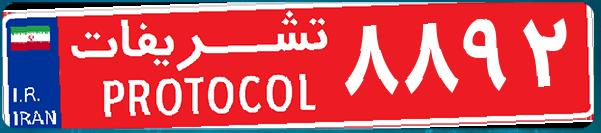2: (520, 20, 580, 115)
8: (340, 20, 400, 115), (400, 20, 460, 115)
9: (460, 20, 520, 115)
تشریفات: (60, 8, 340, 125)
